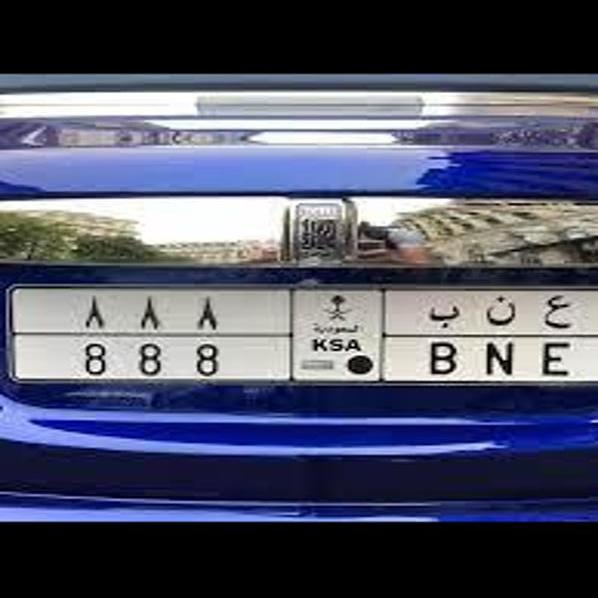numberplate: (77, 290, 579, 384)
